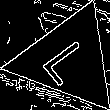L_NE: (36, 31, 100, 88)
